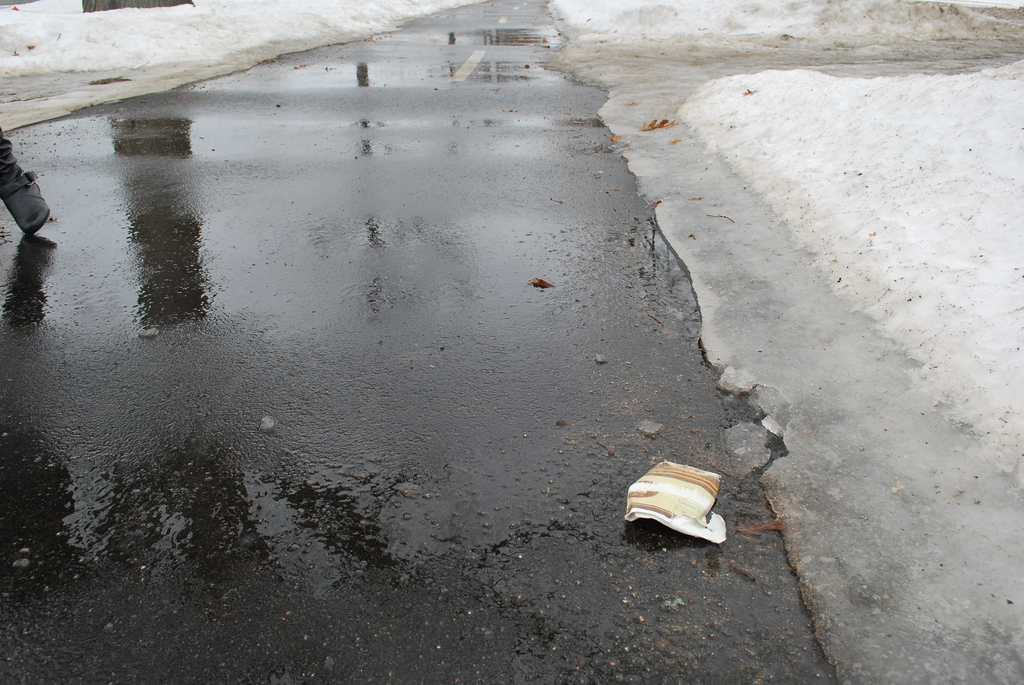person: (0, 125, 58, 246)
